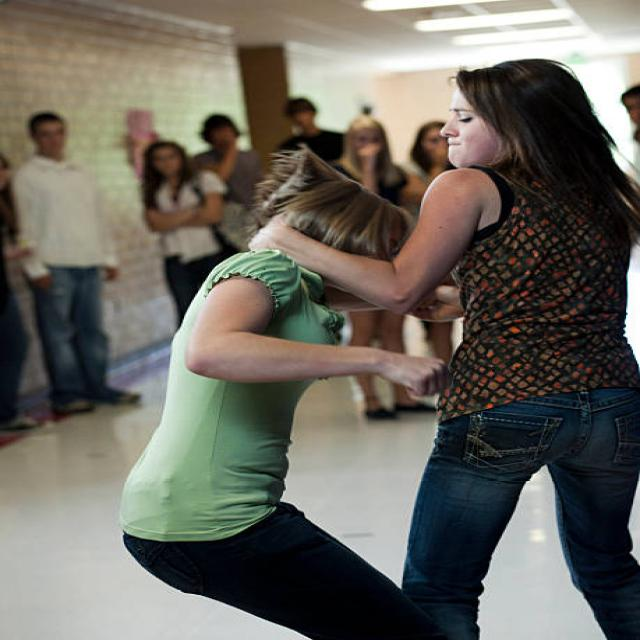fight: (145, 49, 624, 640)
